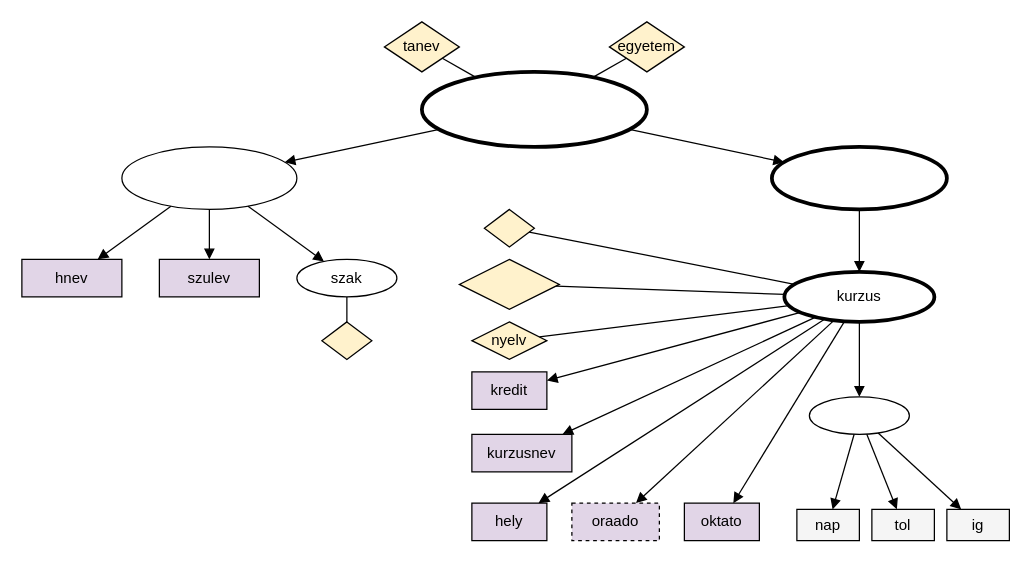
The diagram is 1031 pixels wide and 563 high, and some of its shapes have lost their labels. The shapes that lost their labels are listed below. From the top down, each one's centre as x and y in pixels, then its label:
At [533,108]: "FJYXPC_kurzusfelvetel".
At [209,177]: "hallgato".
At [858,177]: "kurzusok".
At [508,227]: "id".
At [508,283]: "jovahagyas".
At [346,340]: "evf".
At [858,415]: "idopont".
